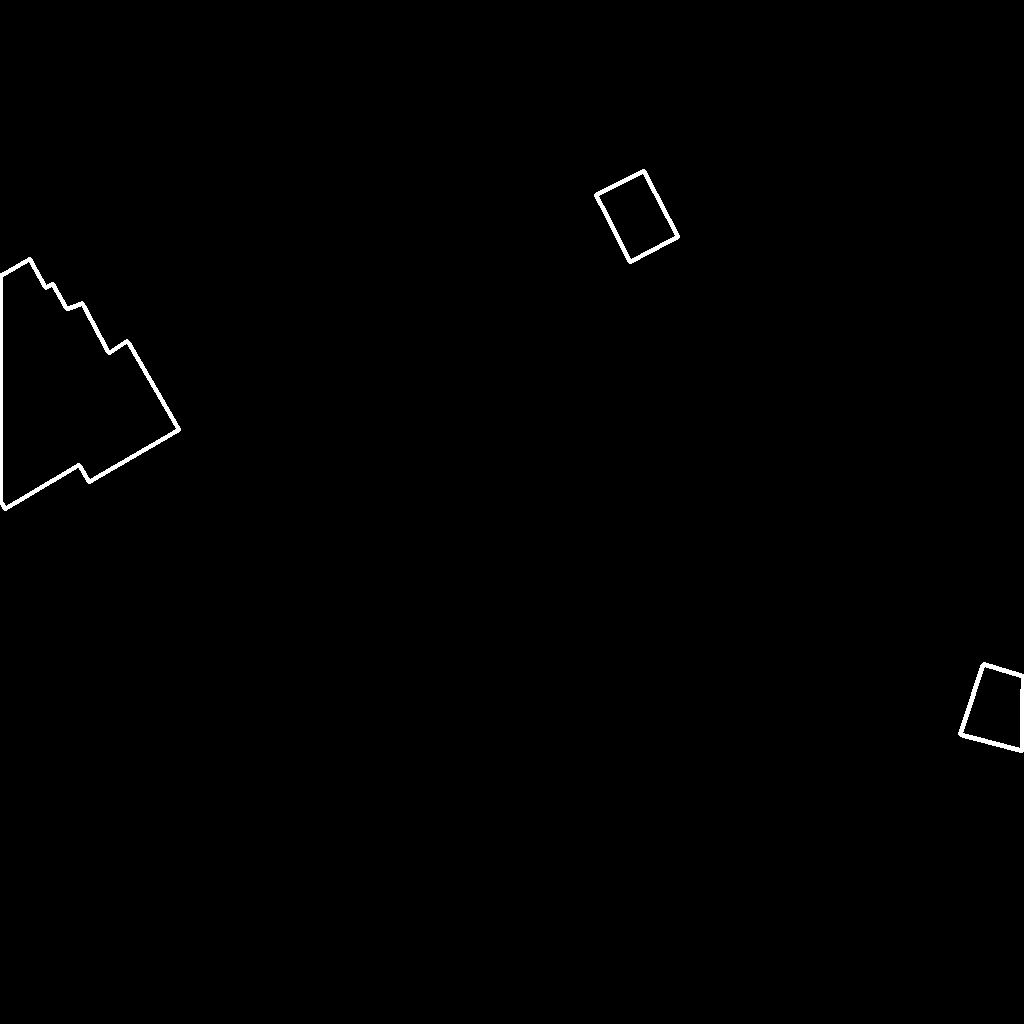building: (0, 259, 180, 510), (596, 171, 679, 263), (960, 664, 1024, 752)
